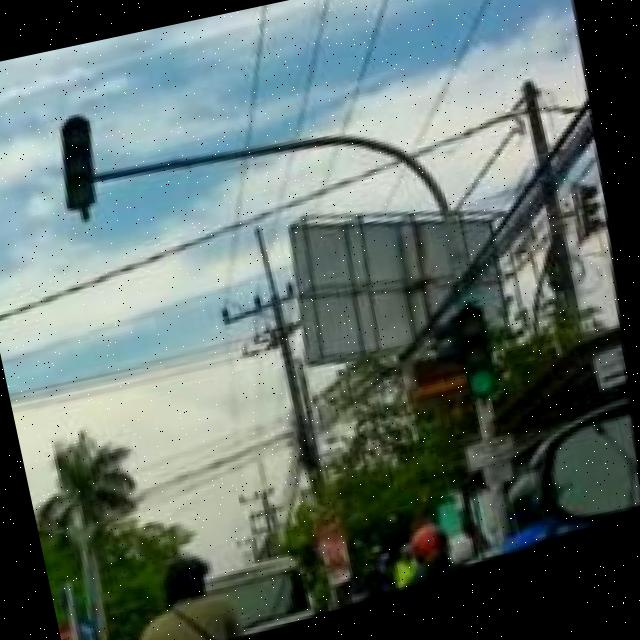green_light: (454, 310, 516, 412), (50, 115, 111, 215)
